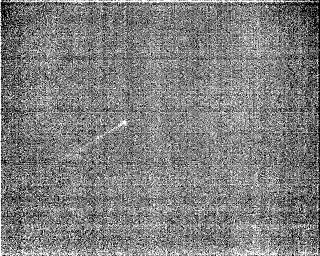AIRPLANE: (63, 119, 129, 161)
